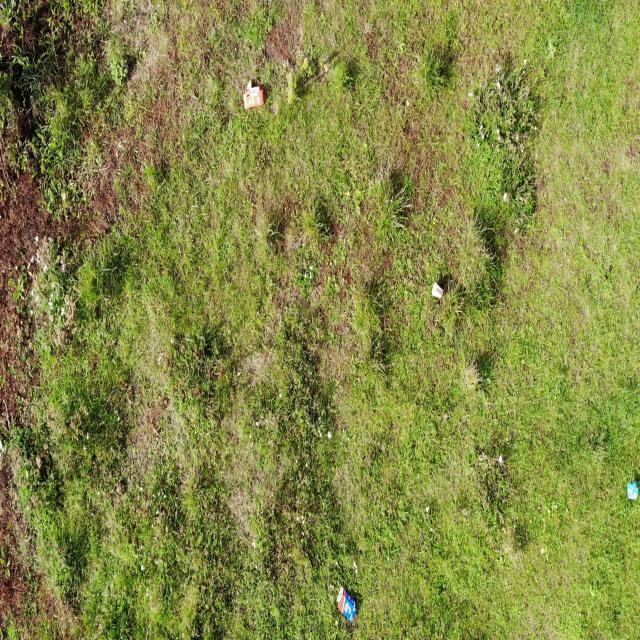rubbish: (336, 586, 358, 624), (242, 80, 266, 109), (431, 280, 445, 303), (626, 482, 637, 502)
